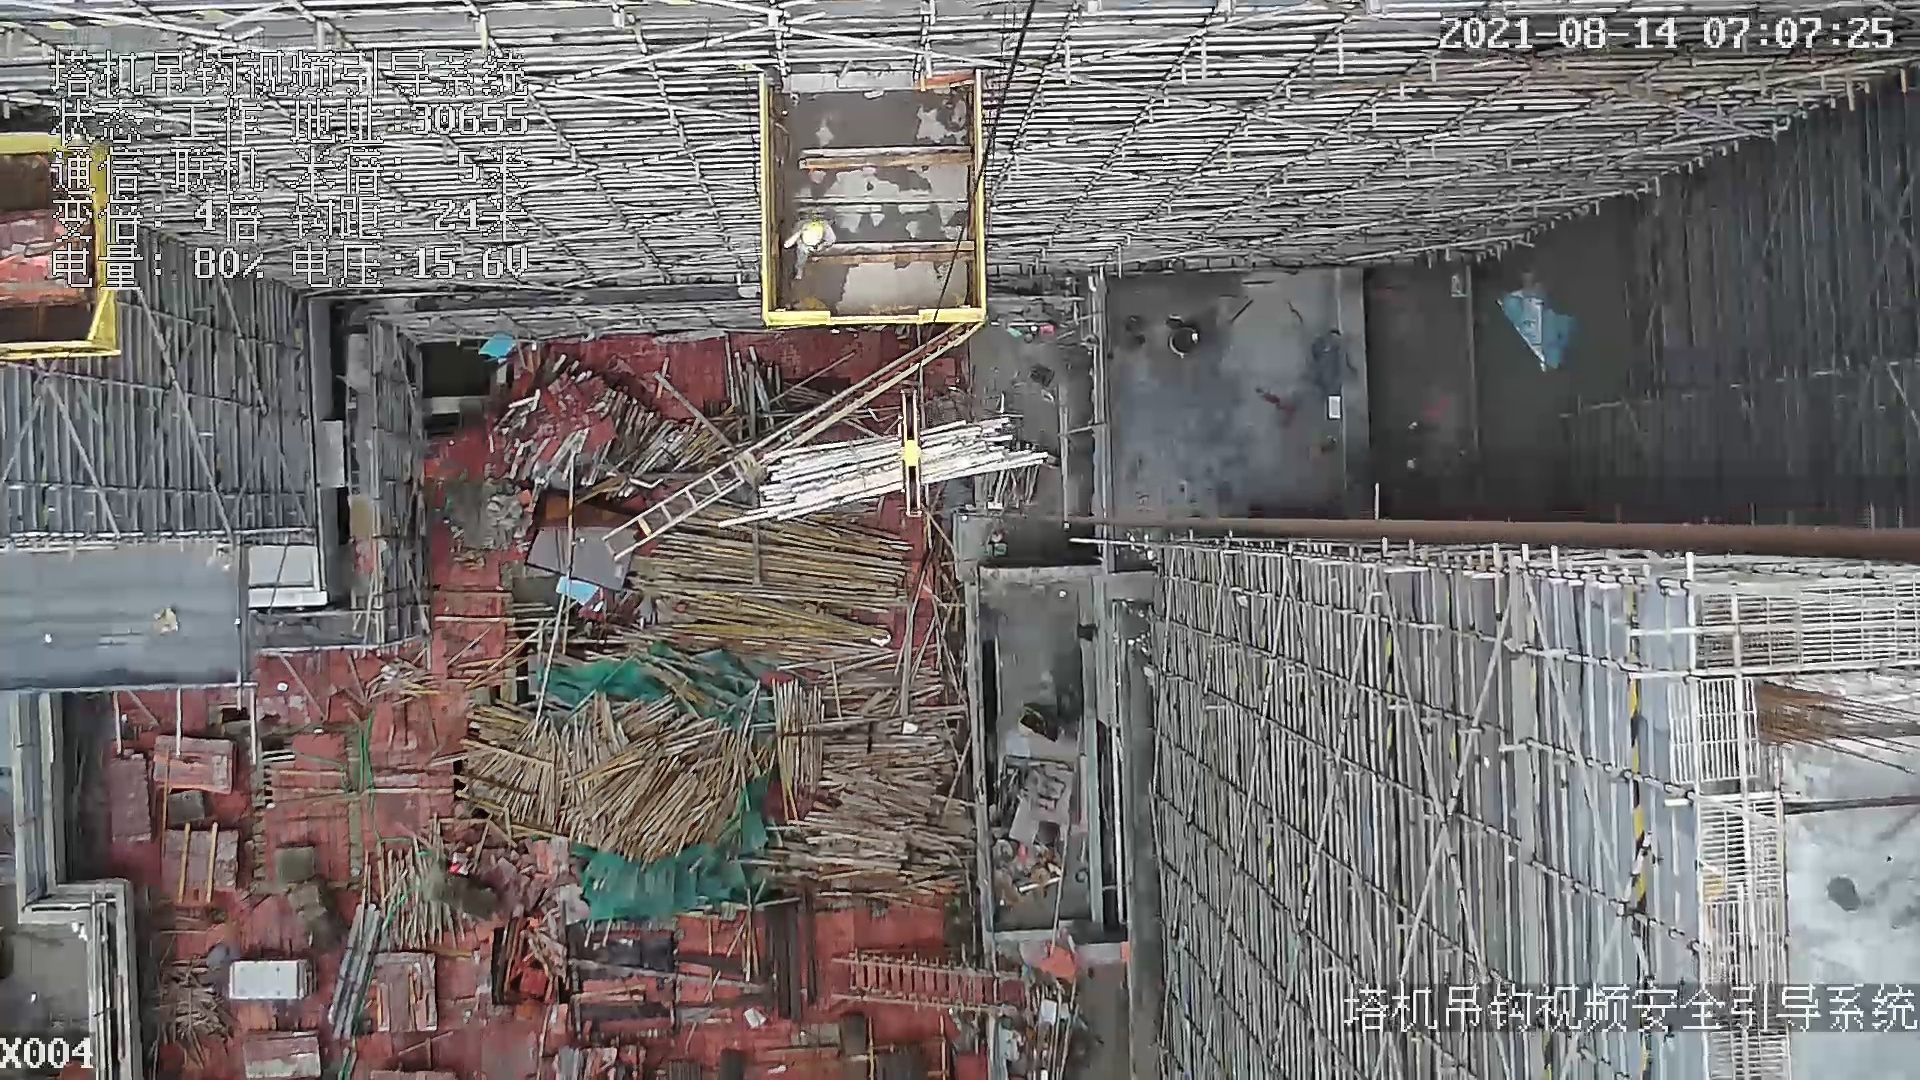helmet: (798, 223, 824, 248)
hook: (895, 385, 926, 518)
person: (782, 221, 836, 286)
